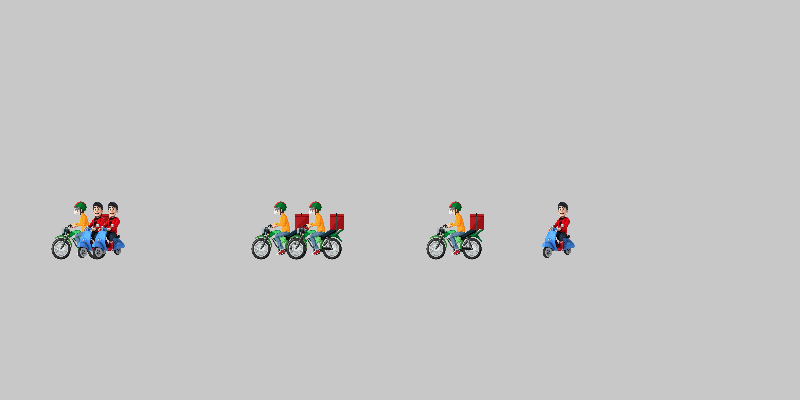helmet: (50, 200, 110, 260), (250, 200, 310, 260), (285, 200, 345, 260), (425, 200, 485, 260)
no_helmet: (65, 200, 125, 260), (80, 200, 140, 260), (530, 200, 590, 260)
